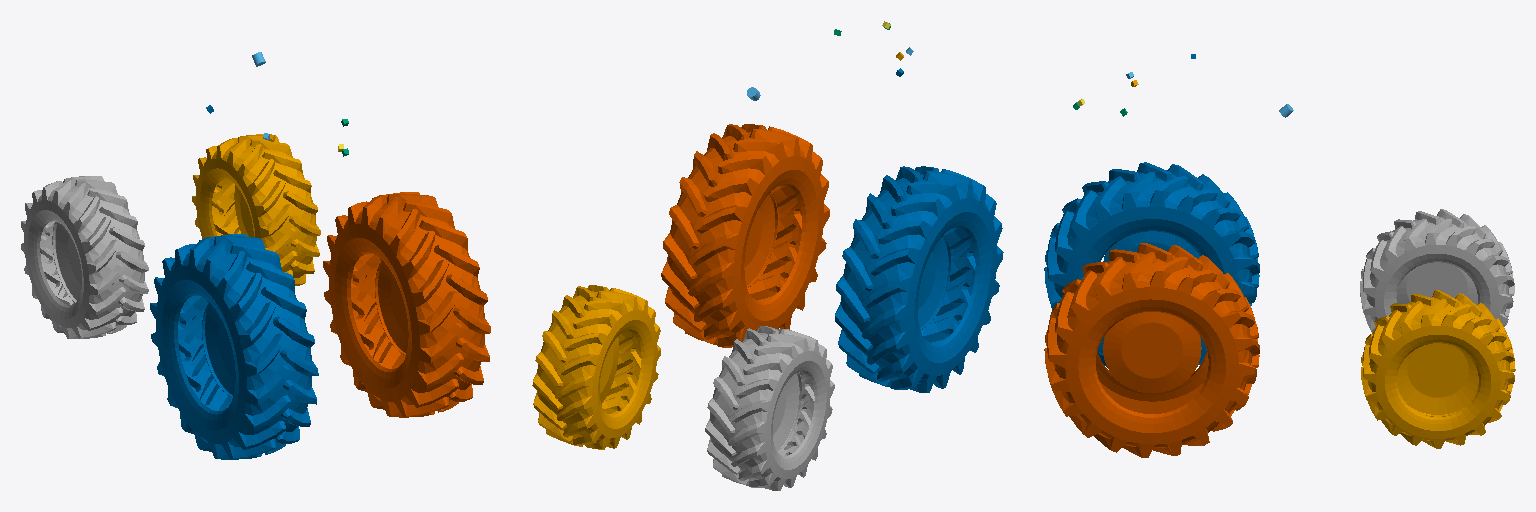
URDF robot description (vario700_sensorrig):
<?xml version="1.0" encoding="UTF-8"?>
<robot name="vario700_sensorrig">
  <joint name="sensorrig_joint" type="fixed">
    <origin xyz="0 -1.35969 2.89559" rpy="0 0 1.5707964"/>
    <parent link="base_link"/>
    <child link="sensorrig"/>
  </joint>

  <!-- OS-Sensor Links and Joints -->
  <!-- Currently just manually measured by aligning OS-Sensor Pointcloud with Fendt 724 model -->
  <joint name="joint_base_link-os_sensor" type="fixed">
    <!-- Last manual align on barn: <origin xyz="0.0 0.26 2.98" rpy="0 -0.802851 -1.570796"/> -->
    <origin xyz="0.10 0.26 2.98" rpy="0 -0.812851 -1.570796"/>
    <parent link="base_link"/>
    <child link="os_sensor"/>
  </joint>

  <joint name="os_sensor_to_os_lidar" type="fixed">
    <origin xyz="0 0 0.038195" rpy="-1.570796 0 0"/>
    <parent link="os_sensor"/>
    <child link="os_lidar"/>
  </joint>

  <!-- From Ouster ROS Wrapper -->
  <joint name="os_imu_joint" type="fixed">
    <origin xyz="-0.002441 -0.009725 0.007533" rpy="0 0 0"/>
    <parent link="os_sensor"/>
    <child link="os_imu"/>
  </joint>

  <!-- Camera Links and Joints: Derived from MSA-Calibration -->
  <joint name="joint_os_sensor-blickfeld" type="fixed">
    <origin xyz="1.08013 0.0128897 -1.15956" rpy="0.188916 -3.11455 1.56053"/>
    <parent link="os_sensor"/>
    <child link="Root"/>
  </joint>

  <joint name="joint_os_sensor-camera_rear_left" type="fixed">
    <origin xyz="0.987213 -0.716739 -1.10573" rpy="0.338194 -2.49739 0.754168"/>
    <parent link="os_sensor"/>
    <child link="camera_rear_left"/>
  </joint>

  <!-- Other cameras relative to camera_rear_left -->
  <joint name="joint_camera_rear_left-camera_side_left" type="fixed">
    <parent link="camera_rear_left"/>
    <child link="camera_side_left"/>
    <origin xyz="-0.679383 0.060769 -0.066061" rpy="0.188762 -0.343638 -0.366012"/>
  </joint>
  <!-- Calibration info: RMS=1.0750, image_pairs=16 -->

  <joint name="joint_camera_rear_left-camera_rear_mid" type="fixed">
    <parent link="camera_rear_left"/>
    <child link="camera_rear_mid"/>
    <origin xyz="-0.729568 0.078662 -0.036759" rpy="0.185558 -0.701033 -0.726936"/>
  </joint>
  <!-- Calibration info: RMS=0.8114, image_pairs=9 -->

  <!-- Inverted from camera_rear_right->camera_rear_mid calibration -->
  <joint name="joint_camera_rear_mid-camera_rear_right" type="fixed">
    <parent link="camera_rear_mid"/>
    <child link="camera_rear_right"/>
    <origin xyz="0.556353 0.283049 -0.436192" rpy="0.257379 0.699633 0.660680"/>
  </joint>
  <!-- Calibration info: Inverted from rear_right->rear_mid, original RMS=0.6673, image_pairs=9 -->

  <joint name="joint_camera_rear_right-camera_side_right" type="fixed">
    <parent link="camera_rear_right"/>
    <child link="camera_side_right"/>
    <origin xyz="0.652059 0.085410 -0.138240" rpy="0.363952 0.463761 0.521473"/>
  </joint>



  <!-- ZED Camera Links and Joints -->
  <!-- DEPRECATED -->
  <!-- Manually alligned ZED-Pointcloud with Fendt 724 model / Ouster-Pointcloud -->
  <!-- 
  <joint name="zed_camera_link_joint" type="fixed">
    <origin xyz="0.08 0.26  3.05" rpy="0.0 0.427851 1.570796"/>
    <parent link="base_link"/>
    <child link="zed_camera_link"/>
  </joint>
  -->

  <!-- NEW -->
  <!-- ICP-Registration of ZED-Pointcloud with Ouster-Pointcloud -->
  <!-- Right Camera Frames not included yet -->
  <joint name="zed_left_camera_joint" type="fixed">
    <parent link="os_sensor"/>
    <child link="zed_left_camera_frame"/>
    <!-- ICP from barn, seemed visually off -->
    <!-- <origin xyz="-0.017881 -0.118638 0.062218" rpy="-0.015401 -0.354727 -3.119028"/>  -->
    <!-- ICP Windrow 4 -->
    <origin xyz="-0.026789 -0.098001 0.035757" rpy="-0.019154 -0.401029 -3.126174"/>
  </joint>

   <!-- From ZED ROS Wrapper -->
  <joint name="zed_left_camera_optical_frame_joint" type="fixed">
    <origin xyz="0 0 0" rpy="-1.57079632679 0 -1.57079632679"/>
    <parent link="zed_left_camera_frame"/>
    <child link="zed_left_camera_optical_frame"/>
  </joint>

  <joint name="zed_camera_center_joint" type="fixed">
    <origin xyz="0.010 -0.060 0.000" rpy="0 0 0"/>
    <parent link="zed_left_camera_frame"/>
    <child link="zed_camera_center"/>
  </joint>

  <joint name="zed_right_camera_joint" type="fixed">
    <origin xyz="-0.010 -0.060 0.000" rpy="0 0 0"/>
    <parent link="zed_camera_center"/>
    <child link="zed_right_camera_frame"/>
  </joint>

  <joint name="zed_camera_link_joint" type="fixed">
    <origin xyz="0 0 -0.015" rpy="0 0 0"/>
    <parent link="zed_camera_center"/>
    <child link="zed_camera_link"/>
  </joint>

  <joint name="zed_right_camera_optical_frame_joint" type="fixed">
    <origin xyz="0 0 0" rpy="-1.57079632679 0 -1.57079632679"/>
    <parent link="zed_right_camera_frame"/>
    <child link="zed_right_camera_optical_frame"/>
  </joint>




  <joint name="back_left_joint" type="fixed">
    <origin xyz="-0.929712 -1.05215 0.79196" rpy="0 0 3.1415927"/>
    <parent link="base_link"/>
    <child link="back_left_wheel"/>
  </joint>

  <joint name="back_right_joint" type="fixed">
    <origin xyz="0.929712 -1.05215 0.79196" rpy="0 0 3.1415927"/>
    <parent link="base_link"/>
    <child link="back_right_wheel"/>
  </joint>

  <joint name="front_left_joint" type="fixed">
    <origin xyz="-0.934094 1.72967 0.581455" rpy="0 0 3.1415927"/>
    <parent link="base_link"/>
    <child link="front_left_wheel"/>
  </joint>

  <joint name="front_right_joint" type="fixed">
    <origin xyz="0.934094 1.72967 0.581455" rpy="0 0 3.1415927"/>
    <parent link="base_link"/>
    <child link="front_right_wheel"/>
  </joint>

  <!-- Visual and Collision Links -->
  <!-- Added geometry to make it easier to visualize in Rviz -->
  <link name="camera_rear_left"><visual><geometry><box size="0.05 0.05 0.05"/></geometry></visual></link>
  <link name="camera_rear_right"><visual><geometry><box size="0.05 0.05 0.05"/></geometry></visual></link>
  <link name="camera_rear_mid"><visual><geometry><box size="0.05 0.05 0.05"/></geometry></visual></link>
  <link name="camera_side_left"><visual><geometry><box size="0.05 0.05 0.05"/></geometry></visual></link>
  <link name="camera_side_right"><visual><geometry><box size="0.05 0.05 0.05"/></geometry></visual></link>

  <!-- Optical frame links for cameras (ROS convention) -->
  <!-- Transform from camera link frame (X-forward, Y-left, Z-up) to -->
  <!-- optical frame (X-right, Y-down, Z-forward): rpy="-pi/2, 0, -pi/2" -->
  <link name="camera_rear_left_optical_frame"/>
  <joint name="camera_rear_left_optical_joint" type="fixed">
    <parent link="camera_rear_left"/>
    <child link="camera_rear_left_optical_frame"/>
    <origin xyz="0 0 0" rpy="-1.5707963 0 -1.5707963"/>
  </joint>

  <link name="camera_rear_right_optical_frame"/>
  <joint name="camera_rear_right_optical_joint" type="fixed">
    <parent link="camera_rear_right"/>
    <child link="camera_rear_right_optical_frame"/>
    <origin xyz="0 0 0" rpy="-1.5707963 0 -1.5707963"/>
  </joint>

  <link name="camera_rear_mid_optical_frame"/>
  <joint name="camera_rear_mid_optical_joint" type="fixed">
    <parent link="camera_rear_mid"/>
    <child link="camera_rear_mid_optical_frame"/>
    <origin xyz="0 0 0" rpy="-1.5707963 0 -1.5707963"/>
  </joint>

  <link name="camera_side_left_optical_frame"/>
  <joint name="camera_side_left_optical_joint" type="fixed">
    <parent link="camera_side_left"/>
    <child link="camera_side_left_optical_frame"/>
    <origin xyz="0 0 0" rpy="-1.5707963 0 -1.5707963"/>
  </joint>

  <link name="camera_side_right_optical_frame"/>
  <joint name="camera_side_right_optical_joint" type="fixed">
    <parent link="camera_side_right"/>
    <child link="camera_side_right_optical_frame"/>
    <origin xyz="0 0 0" rpy="-1.5707963 0 -1.5707963"/>
  </joint>

  <link name="Root"><visual><geometry><box size="0.05 0.05 0.05"/></geometry></visual></link>

  <link name="zed_camera_link"></link>
  <link name="zed_camera_center"></link>
  <link name="zed_left_camera_frame"></link>
  <link name="zed_right_camera_frame"></link>
  <!-- <link name="zed_imu_link"></link> -->
  <link name="zed_left_camera_optical_frame"></link>
  <link name="zed_right_camera_optical_frame"></link>

  <link name="os_sensor"><visual><geometry><cylinder radius="0.05" length="0.1"/></geometry></visual></link>
  <link name="os_lidar"/>
  <link name="os_imu"/>


  <!-- Wheel Links and Joints -->
  <!-- Geometry is from Fendt 724 model Farming Simulator 22 -->
  <!-- Needs further refinement, especially in the mass and inertia -->
  <link name="back_left_wheel">
    <inertial><origin xyz="0 0 0" rpy="0 0 0"/><mass value="1"/><inertia ixx="0.01" ixy="0" ixz="0" iyy="0.01" iyz="0" izz="0.01"/></inertial>
    <visual><origin xyz="0 0 0" rpy="0 0 0"/><geometry><mesh filename="package://vario700_sensorrig/meshes/back_left_wheel_visuals.obj" scale="0.1 0.1 0.1"/></geometry></visual>
    <collision><origin xyz="0 0 0" rpy="0 0 0"/><geometry><mesh filename="package://vario700_sensorrig/meshes/back_left_wheel_collisions.obj" scale="0.1 0.1 0.1"/></geometry></collision>
  </link>

  <link name="back_right_wheel">
    <inertial><origin xyz="0 0 0" rpy="0 0 0"/><mass value="1"/><inertia ixx="0.01" ixy="0" ixz="0" iyy="0.01" iyz="0" izz="0.01"/></inertial>
    <visual><origin xyz="0 0 0" rpy="0 0 0"/><geometry><mesh filename="package://vario700_sensorrig/meshes/back_right_wheel_visuals.obj" scale="0.1 0.1 0.1"/></geometry></visual>
    <collision><origin xyz="0 0 0" rpy="0 0 0"/><geometry><mesh filename="package://vario700_sensorrig/meshes/back_right_wheel_collisions.obj" scale="0.1 0.1 0.1"/></geometry></collision>
  </link>

  <link name="base_link">
    <inertial><origin xyz="0 0 0" rpy="0 0 0"/><mass value="10"/><inertia ixx="1" ixy="0" ixz="0" iyy="1" iyz="0" izz="1"/></inertial>
    <visual><origin xyz="0 0 0" rpy="0 0 0"/><geometry><mesh filename="package://vario700_sensorrig/meshes/base_link_visuals.obj" scale="0.1 0.1 0.1"/></geometry></visual>
    <collision><origin xyz="0 0 0" rpy="0 0 0"/><geometry><mesh filename="package://vario700_sensorrig/meshes/base_link_collisions.obj" scale="0.1 0.1 0.1"/></geometry></collision>
  </link>

  <link name="front_left_wheel">
    <inertial><origin xyz="0 0 0" rpy="0 0 0"/><mass value="1"/><inertia ixx="0.01" ixy="0" ixz="0" iyy="0.01" iyz="0" izz="0.01"/></inertial>
    <visual><origin xyz="0 0 0" rpy="0 0 0"/><geometry><mesh filename="package://vario700_sensorrig/meshes/front_left_wheel_visuals.obj" scale="0.1 0.1 0.1"/></geometry></visual>
    <collision><origin xyz="0 0 0" rpy="0 0 0"/><geometry><mesh filename="package://vario700_sensorrig/meshes/front_left_wheel_collisions.obj" scale="0.1 0.1 0.1"/></geometry></collision>
  </link>

  <link name="front_right_wheel">
    <inertial><origin xyz="0 0 0" rpy="0 0 0"/><mass value="1"/><inertia ixx="0.01" ixy="0" ixz="0" iyy="0.01" iyz="0" izz="0.01"/></inertial>
    <visual><origin xyz="0 0 0" rpy="0 0 0"/><geometry><mesh filename="package://vario700_sensorrig/meshes/front_right_wheel_visuals.obj" scale="0.1 0.1 0.1"/></geometry></visual>
    <collision><origin xyz="0 0 0" rpy="0 0 0"/><geometry><mesh filename="package://vario700_sensorrig/meshes/front_right_wheel_collisions.obj" scale="0.1 0.1 0.1"/></geometry></collision>
  </link>

  <!-- Sensorrig Links and Joints -->
  <!-- Handmade CAD Model -->
  <link name="sensorrig">
    <inertial><origin xyz="0 0 0" rpy="0 0 0"/><mass value="2"/><inertia ixx="0.1" ixy="0" ixz="0" iyy="0.1" iyz="0" izz="0.1"/></inertial>
    <visual><origin xyz="0 0 0" rpy="0 0 0"/><geometry><mesh filename="package://vario700_sensorrig/meshes/sensorrig_visuals.obj" scale="0.001 0.001 0.001"/></geometry></visual>
    <collision><origin xyz="0 0 0" rpy="0 0 0"/><geometry><mesh filename="package://vario700_sensorrig/meshes/sensorrig_collisions.obj" scale="0.001 0.001 0.001"/></geometry></collision>
  </link>
</robot>

--- Facts derived from the render (not from the file) ---
The picture shows the robot from 3 angles, left to right: view 1: azimuth 30°, elevation 25°; view 2: azimuth 150°, elevation 25°; view 3: azimuth 270°, elevation 25°; orthographic projection.
Model vario700_sensorrig with 26 links and 25 joints (25 fixed), rooted at base_link, posed every joint at zero.
Visible links, largest first — view 1: back_left_wheel, back_right_wheel, front_left_wheel, front_right_wheel; view 2: back_left_wheel, back_right_wheel, front_right_wheel, front_left_wheel; view 3: back_right_wheel, front_right_wheel, back_left_wheel, front_left_wheel.
Link boxes in pixels (x1,y1,x2,y2): back_left_wheel: (150,234,318,459); back_right_wheel: (323,192,490,417); front_left_wheel: (21,176,148,338); front_right_wheel: (192,134,320,285); back_left_wheel: (835,166,1003,392); back_right_wheel: (661,124,829,347); front_right_wheel: (532,285,660,449); front_left_wheel: (705,326,834,490); back_right_wheel: (1044,243,1259,457); front_right_wheel: (1361,290,1515,448); back_left_wheel: (1044,162,1259,367); front_left_wheel: (1360,209,1514,333).
Bounding box of the posed robot: 2.59 × 4.59 × 3.37 m (x, y, z).
Meshes: 6 distinct files referenced, 4 mesh visuals loaded (4 OBJ); not drawn: 2 (reference not matched to a file when rendering).